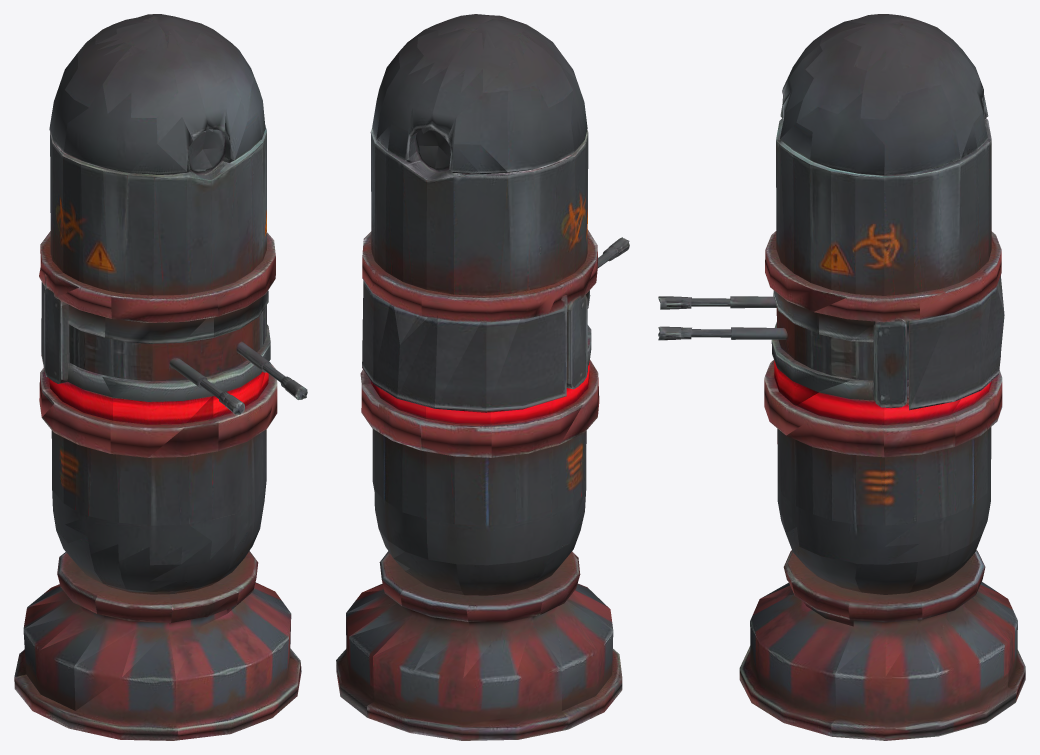
The model's file is BS_Enemy_Ranged_CapsulePawn_final.glb.
3 renders of one model, left to right at view 1: azimuth 30°, elevation 25°; view 2: azimuth 150°, elevation 25°; view 3: azimuth 270°, elevation 25°, orthographic.
Size of the model in its own units: 0.3994 by 1 by 0.5078.
1 material, 1 textured.
